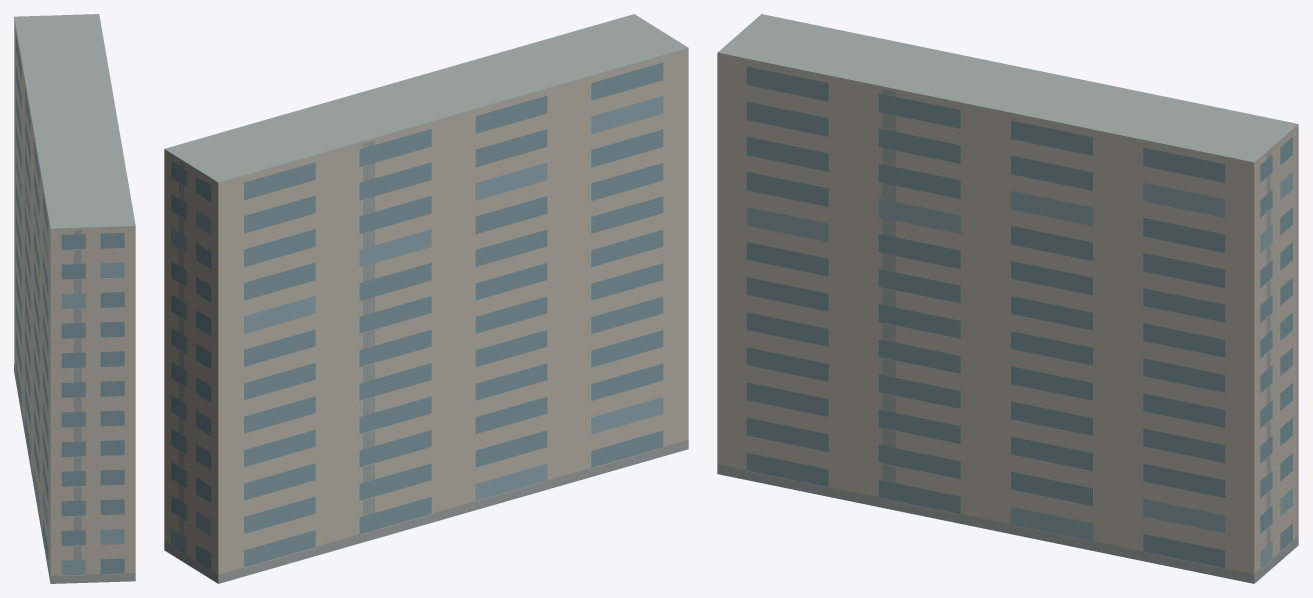
Rendered from residential-f2baed17-c2d4-4e42-90dd-5218c72d5b00.glb.
3 renders of one model, left to right at view 1: azimuth 30°, elevation 25°; view 2: azimuth 150°, elevation 25°; view 3: azimuth 270°, elevation 25°, orthographic. The views are drawn at different scales.
Visible parts, largest first — view 1: residential-f2baed17-c2d4-4e42-90dd-5218c72d5b00.tmp; view 2: residential-f2baed17-c2d4-4e42-90dd-5218c72d5b00.tmp; view 3: residential-f2baed17-c2d4-4e42-90dd-5218c72d5b00.tmp.
Boxes of the visible parts, bbox=[...] form: residential-f2baed17-c2d4-4e42-90dd-5218c72d5b00.tmp: bbox=[14, 14, 135, 583]; residential-f2baed17-c2d4-4e42-90dd-5218c72d5b00.tmp: bbox=[164, 14, 688, 583]; residential-f2baed17-c2d4-4e42-90dd-5218c72d5b00.tmp: bbox=[717, 14, 1298, 583].
Bounding box in the file's own units: 27.66 × 36.6 × 45.74.
